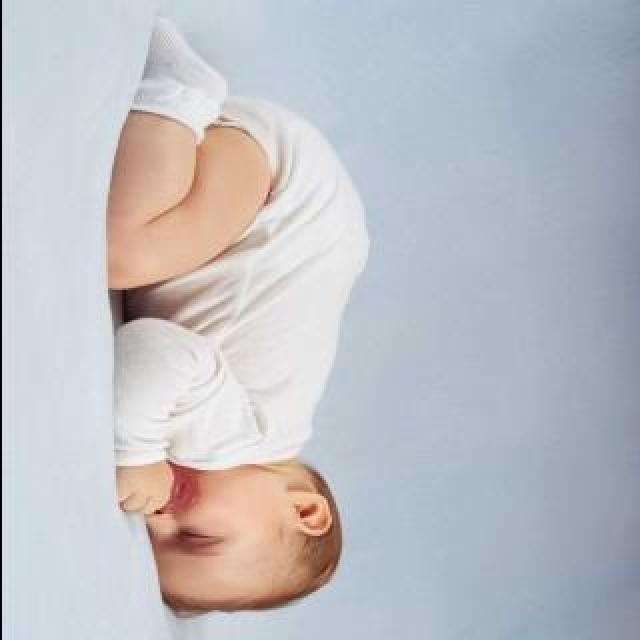baby: (108, 16, 372, 608)
